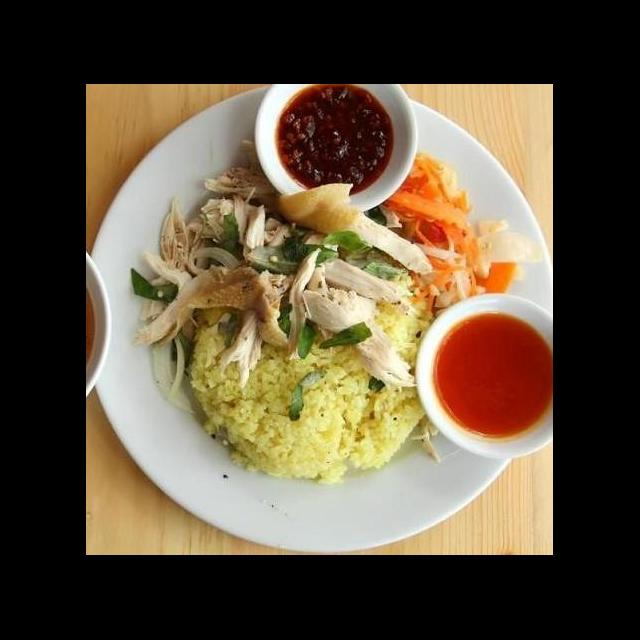com: (184, 304, 433, 490)
com ga: (91, 113, 554, 556)
dua chua: (388, 152, 546, 322)
rau ram: (240, 230, 413, 292), (200, 203, 243, 274), (274, 300, 320, 360), (128, 264, 186, 306)
thit ga: (128, 165, 436, 392)
